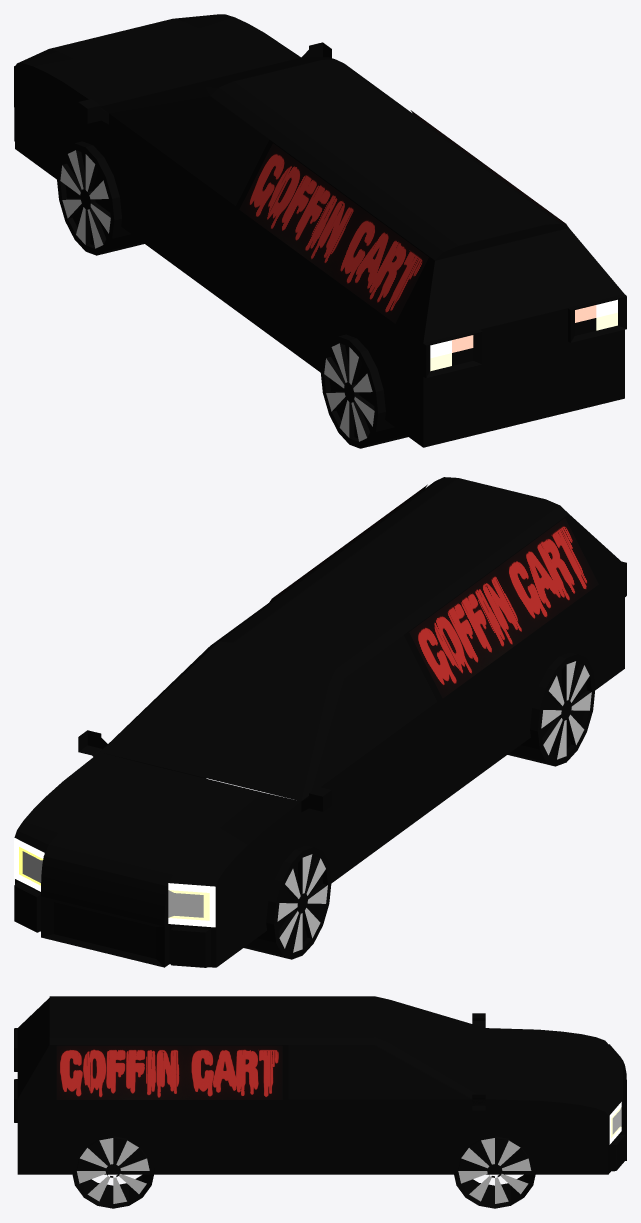
File: Coffin Cart.glb
3 views of the same model, one above another, from view 1: azimuth 30°, elevation 25°; view 2: azimuth 150°, elevation 25°; view 3: azimuth 270°, elevation 25° (orthographic). The views are drawn at different scales.
Visible parts, largest first — view 1: Cube, Cube.002, Cube.003; view 2: Cube, Cube.002, Cube.003; view 3: Cube, Cube.004, Cube.005.
Boxes of the visible parts, x1,y1,x2,y2 form: Cube: (14,14,626,447); Cube.002: (320,334,407,448); Cube.003: (57,141,144,255); Cube: (14,477,626,967); Cube.002: (507,652,595,766); Cube.003: (244,845,331,959); Cube: (14,996,626,1174); Cube.004: (71,1136,154,1208); Cube.005: (453,1136,536,1208).
Size of the model in its own units: 4.91 by 4.13 by 14.73.
Materials: 8 (1 with a texture image).
